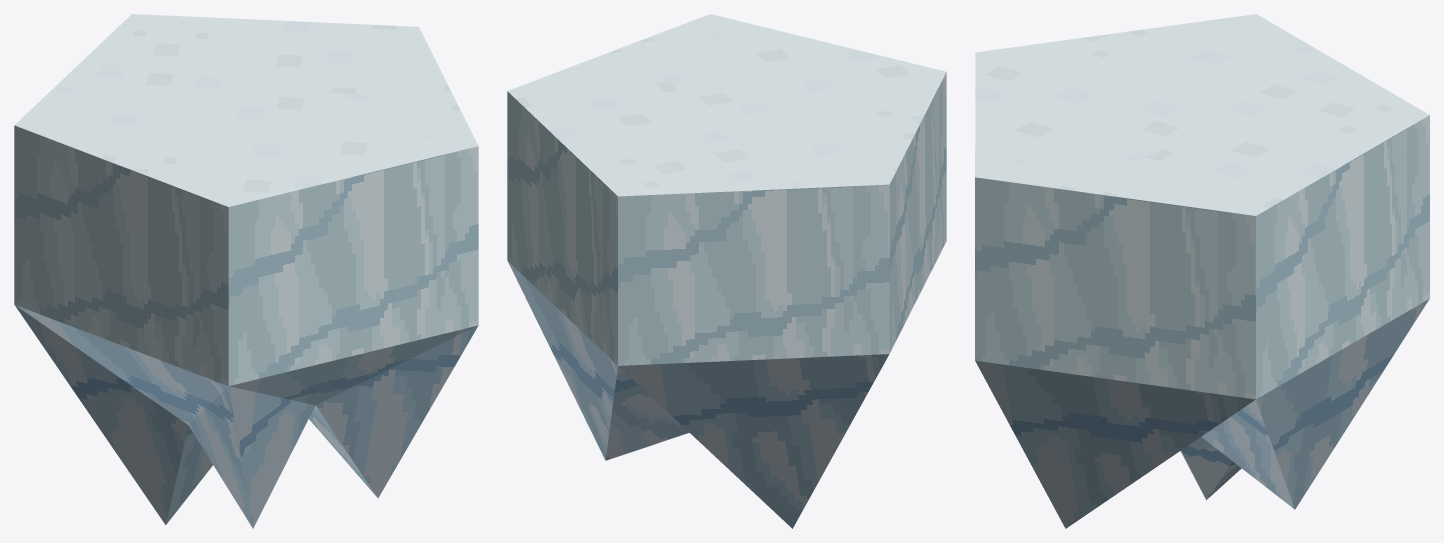
The model's file is 03ac_Small_Iceberg.glb.
The picture shows the model from 3 angles, left to right: view 1: azimuth 30°, elevation 25°; view 2: azimuth 150°, elevation 25°; view 3: azimuth 270°, elevation 25°; orthographic projection. The views are drawn at different scales.
Visible parts, largest first — view 1: part_0; view 2: part_0; view 3: part_0.
Part boxes in pixels (x1,y1,x2,y2): part_0: [14, 14, 478, 528]; part_0: [507, 14, 946, 528]; part_0: [975, 14, 1429, 528].
Size of the model in its own units: 63.27 by 61.76 by 60.19.
Materials: 1 (1 with a texture image).
